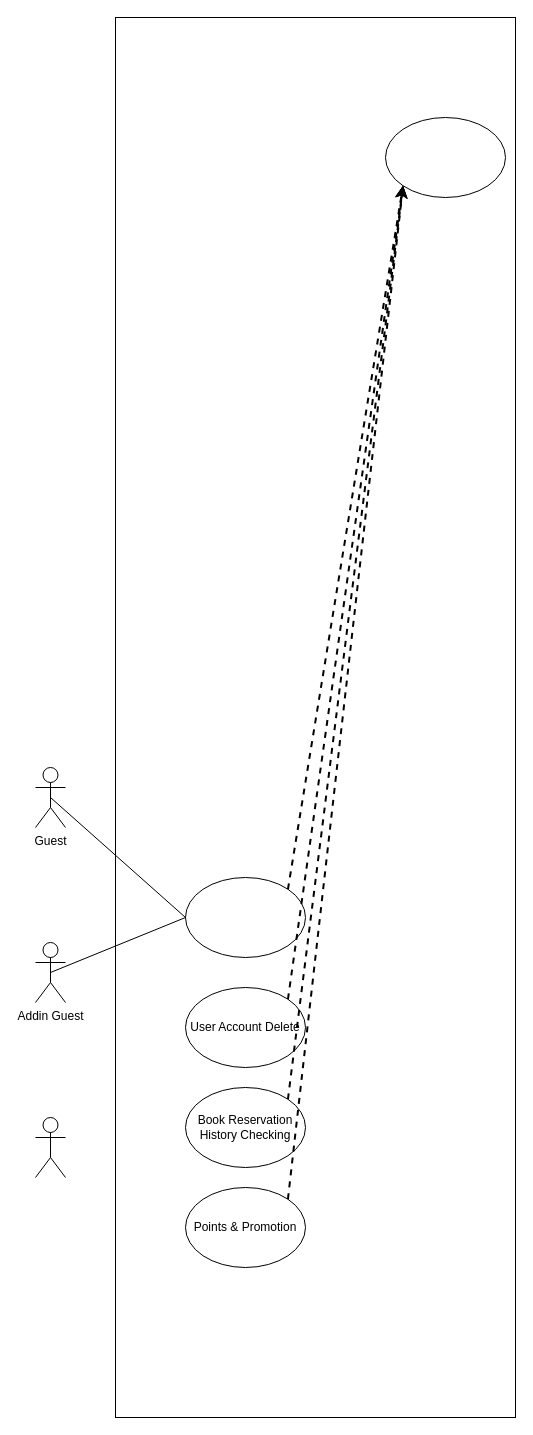
Some shapes in this 533 by 1435 pixel diagram are drawn without their labels. Each missing label, with the centre of its shape:
Actor: [50,1147]
Family Member Adding: [245,917]
Validate User: [445,157]
